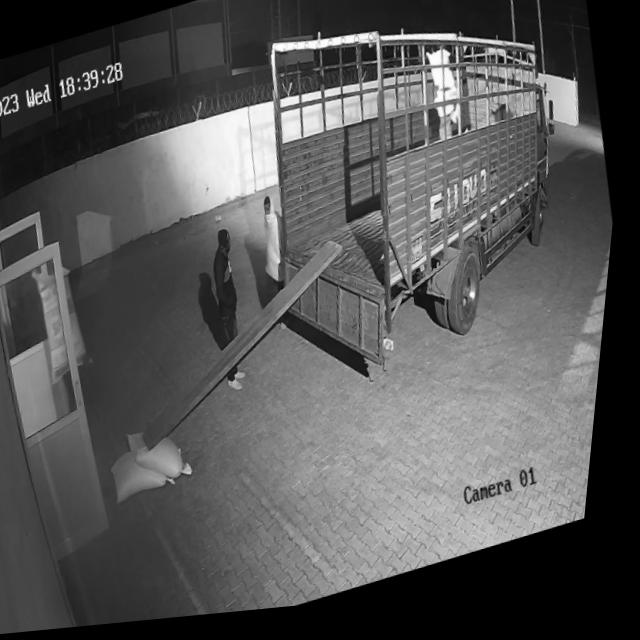sack: (29, 255, 109, 388), (130, 418, 206, 495), (114, 442, 189, 508)
